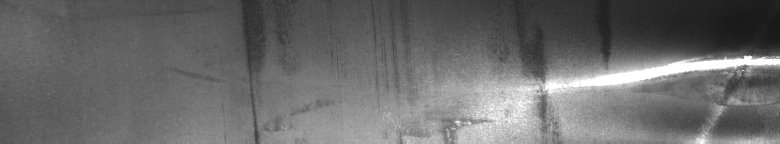ke: (440, 40, 776, 136)
